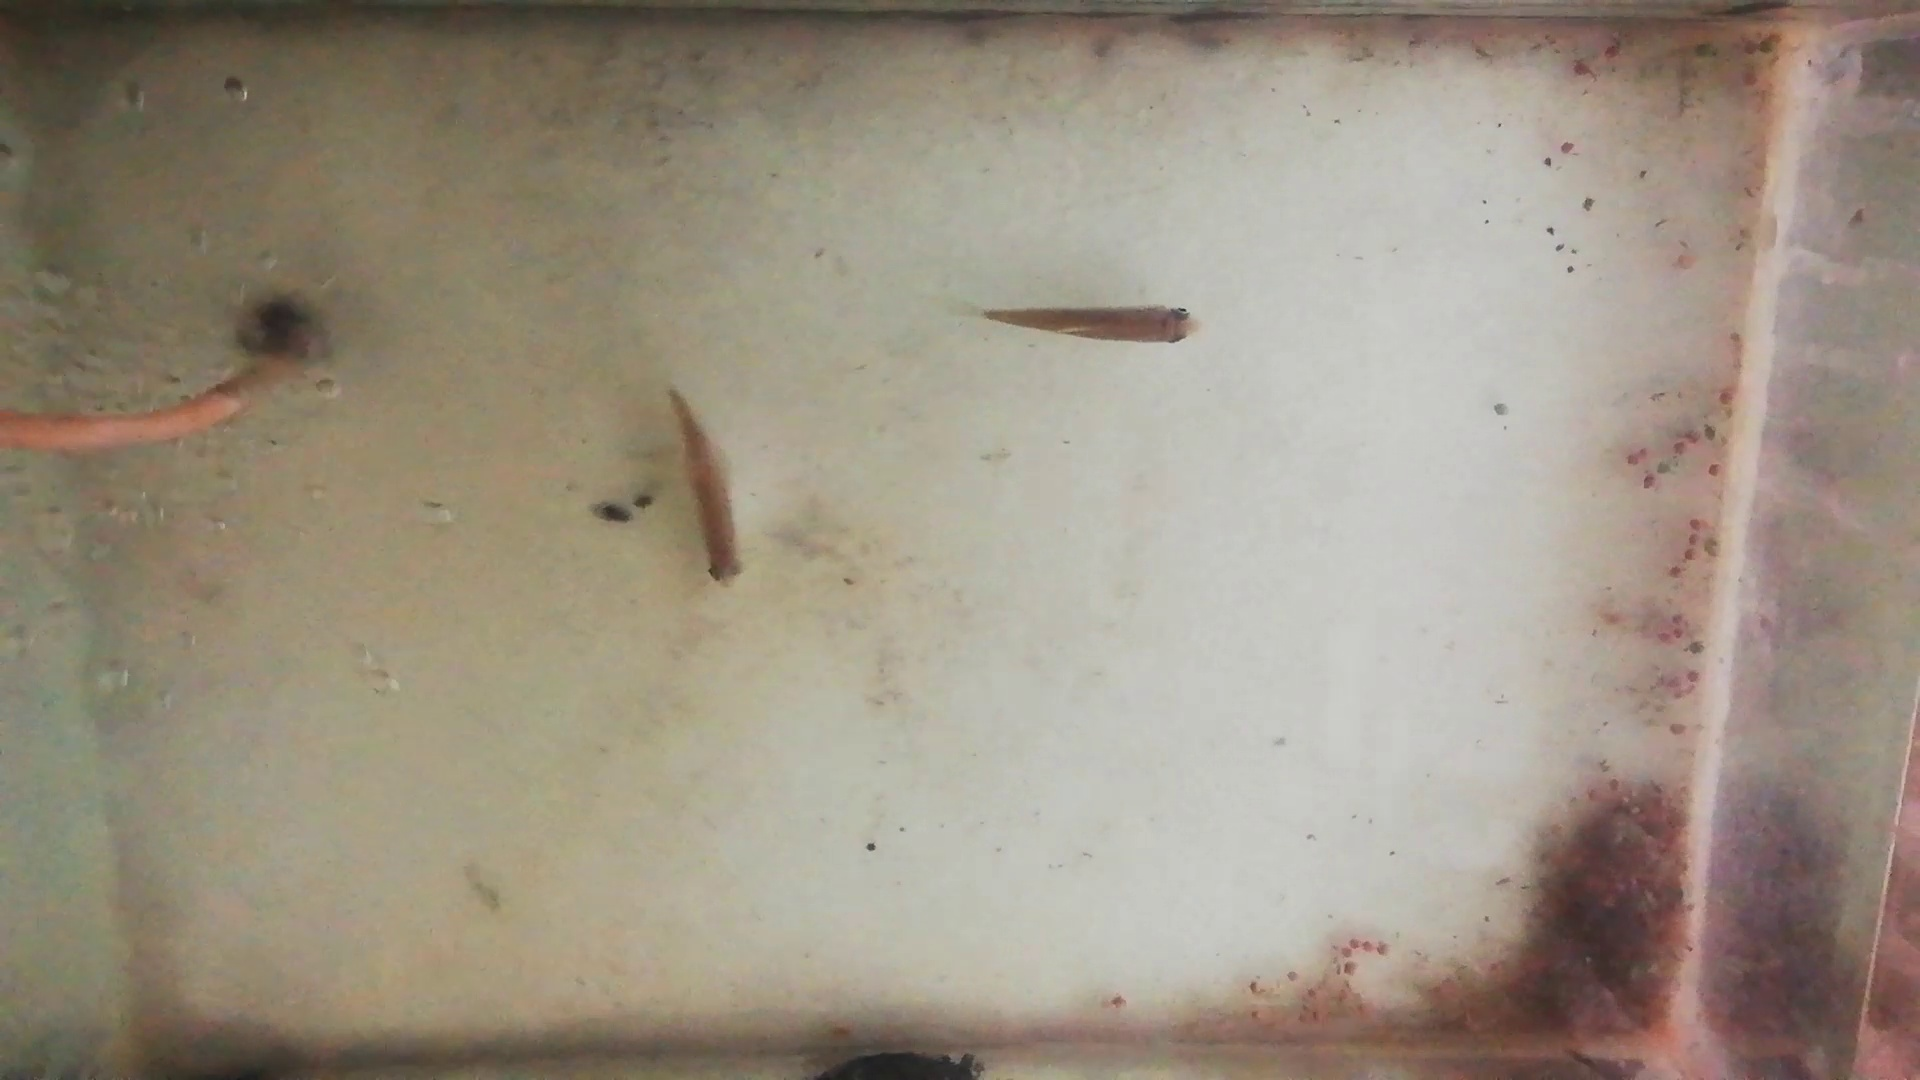fish: (662, 389, 744, 587), (978, 305, 1203, 345)
